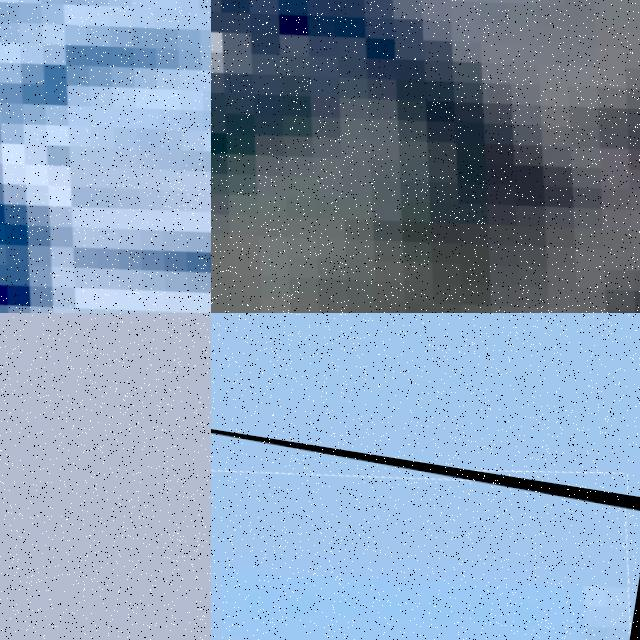drone: (211, 0, 640, 313), (211, 399, 640, 640), (0, 0, 211, 313)
